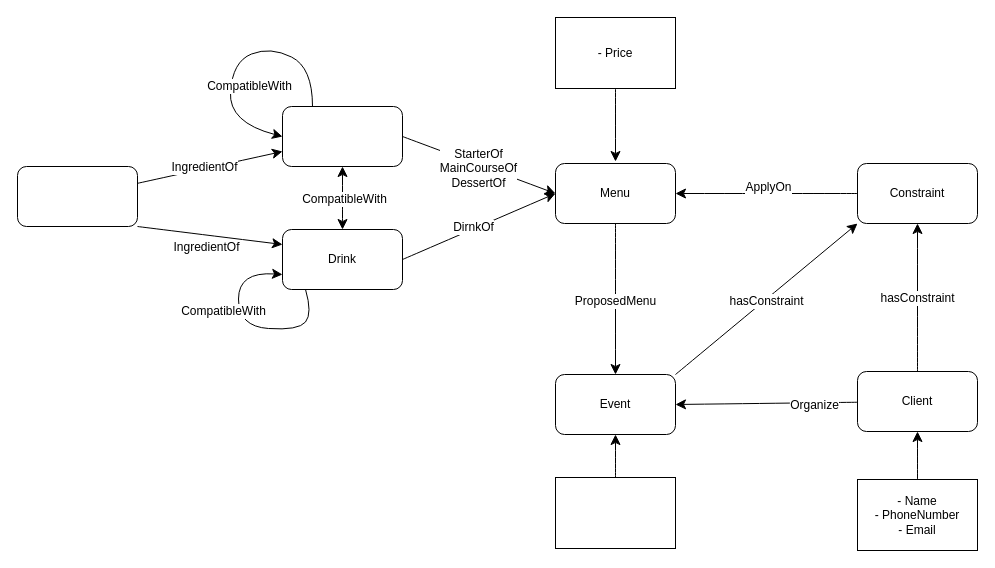
This 995x568 diagram has some shape labels left out. The shapes that lost their labels are listed below. From the top down, each one's centre as x and y in pixels, then its label:
At point (342, 136): "Dish".
At point (77, 196): "Ingredient".
At point (615, 512): "- Date/Season - NumberOfPeople".
